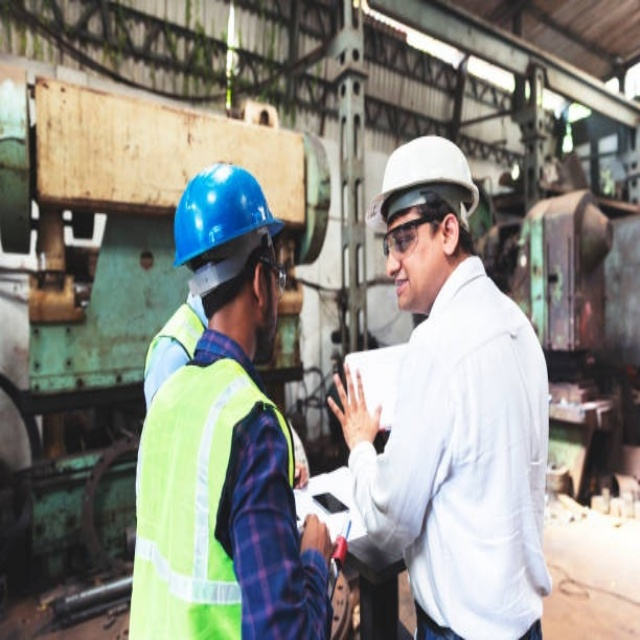Gafas: (383, 219, 439, 259), (256, 234, 286, 301)
Sin_guantes: (324, 369, 380, 453), (298, 512, 335, 569)
Sin_mascara: (390, 268, 420, 309)
